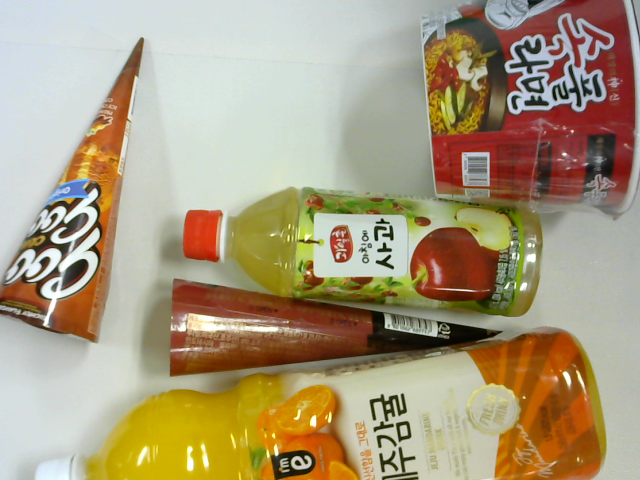GooGoo_Cone_CVS: (1, 34, 146, 347)
Hejangpul: (425, 1, 640, 220)
Jeju_Tangerine_1.5L: (38, 326, 601, 480)
Morning_Apple_500ml: (185, 184, 544, 325)
World_Cone_Choco: (168, 275, 503, 373)
